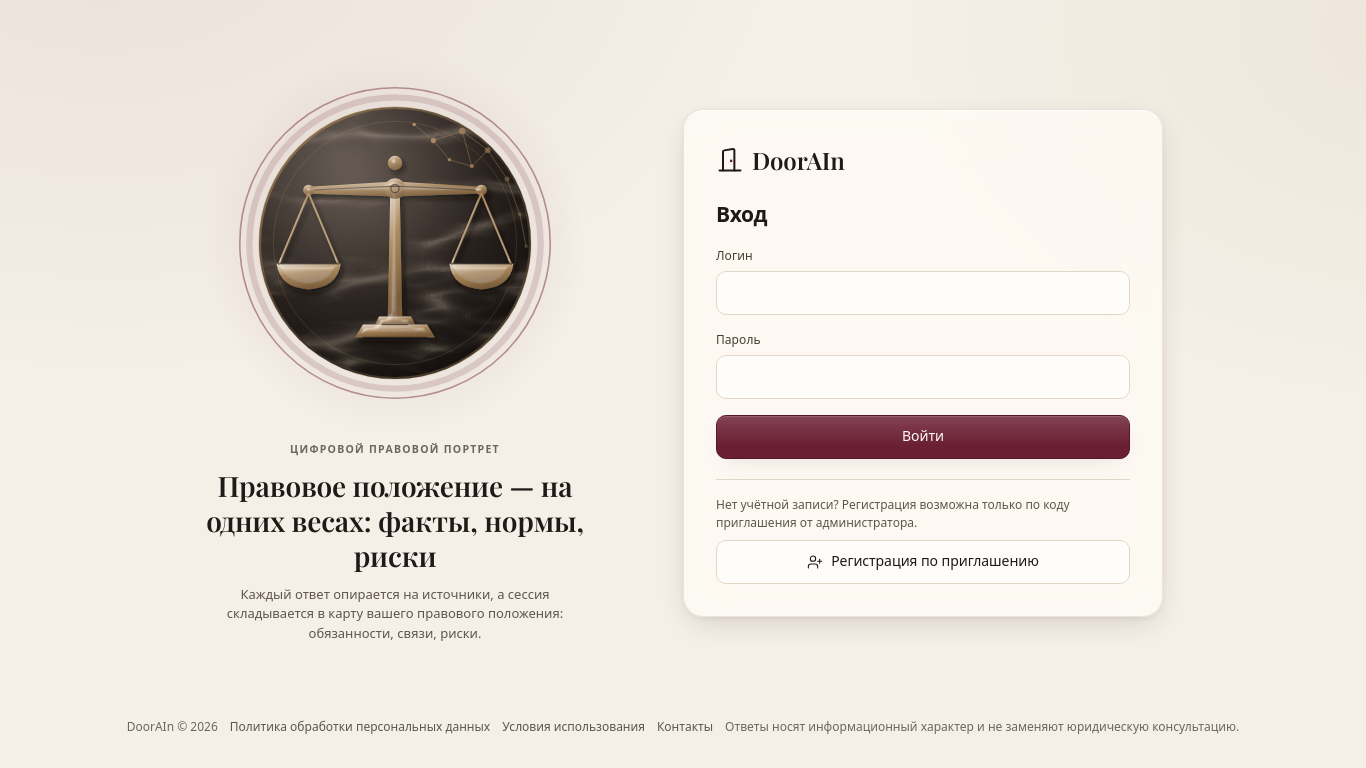
Test: LoginPage › показывает единое сообщение об ошибке входа
In the field labelled "Логин": (923, 293) [716, 271, 1130, 315], type "owner"
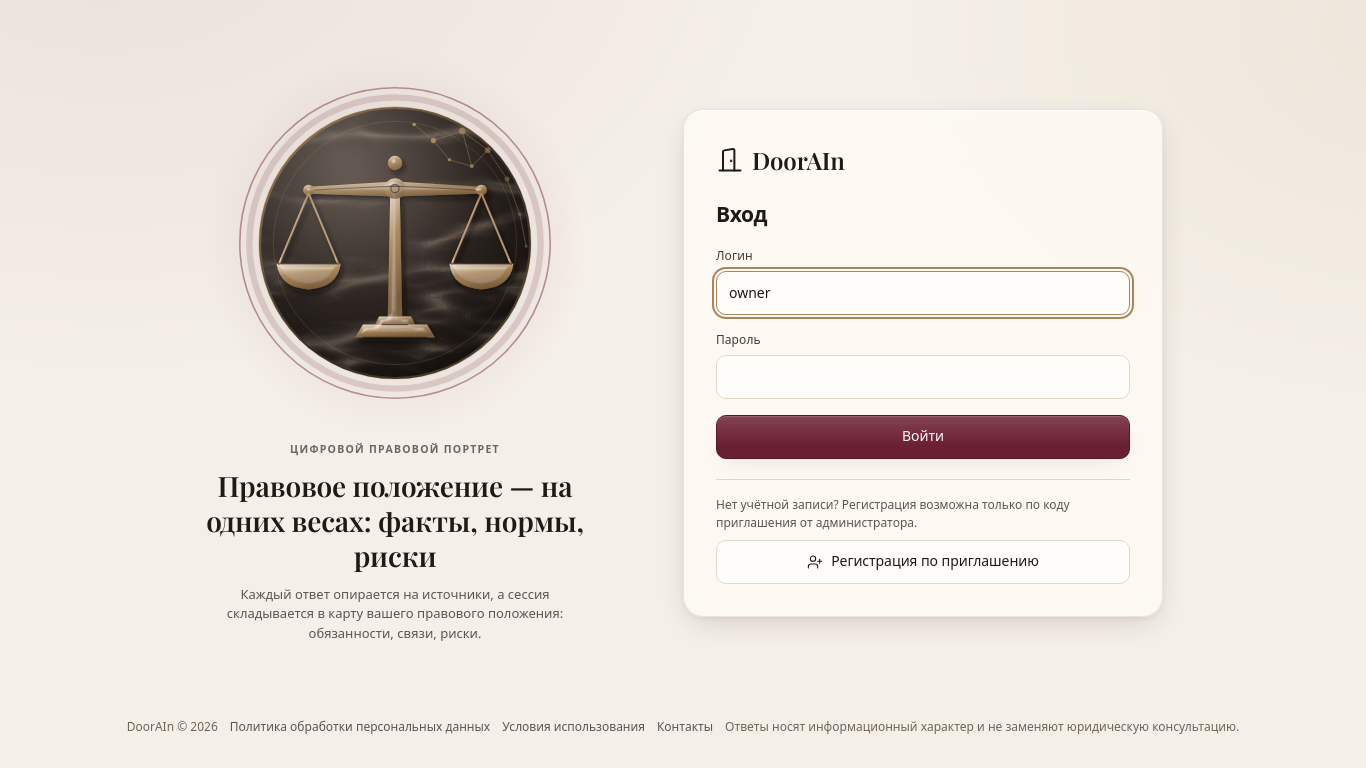
In the password field labelled "Пароль": (923, 377) [716, 355, 1130, 399], type "wrong-password"
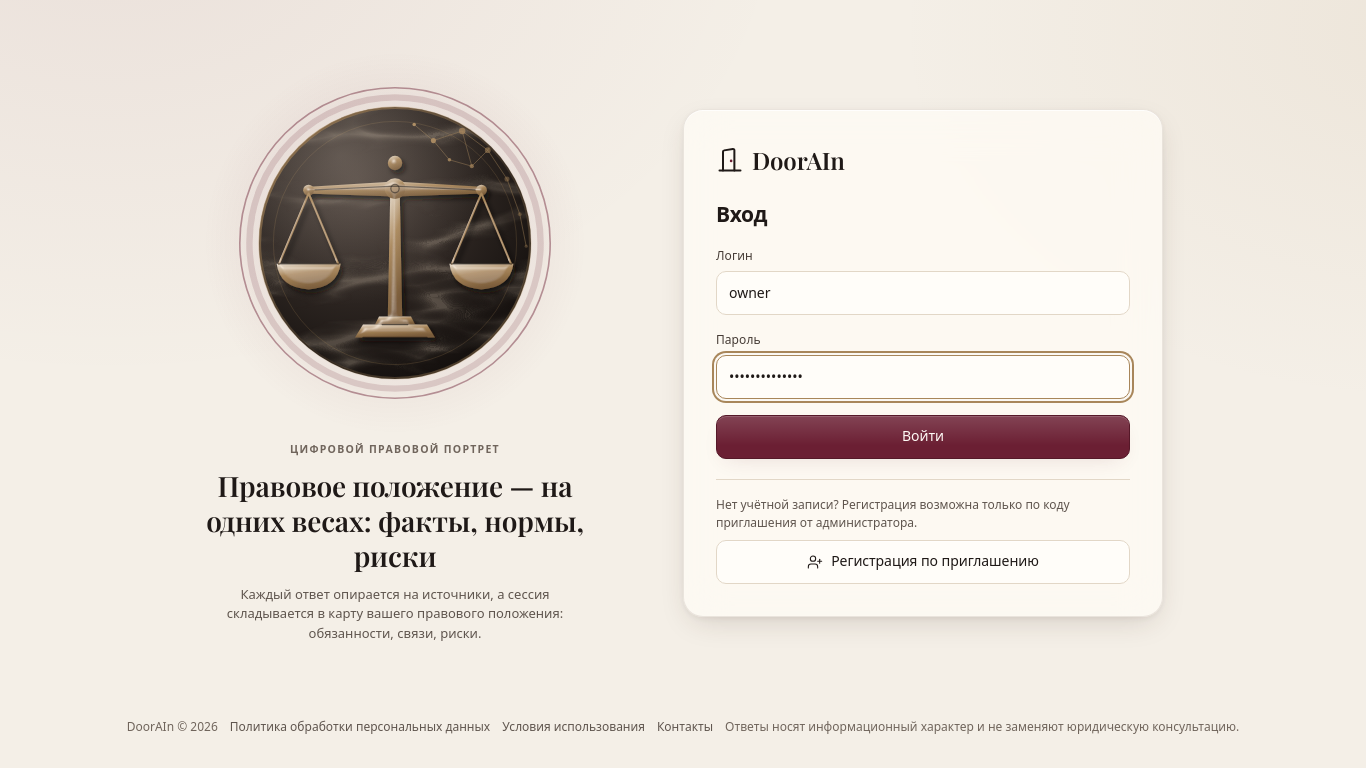
Click the button "Войти": (923, 437) [716, 415, 1130, 459]
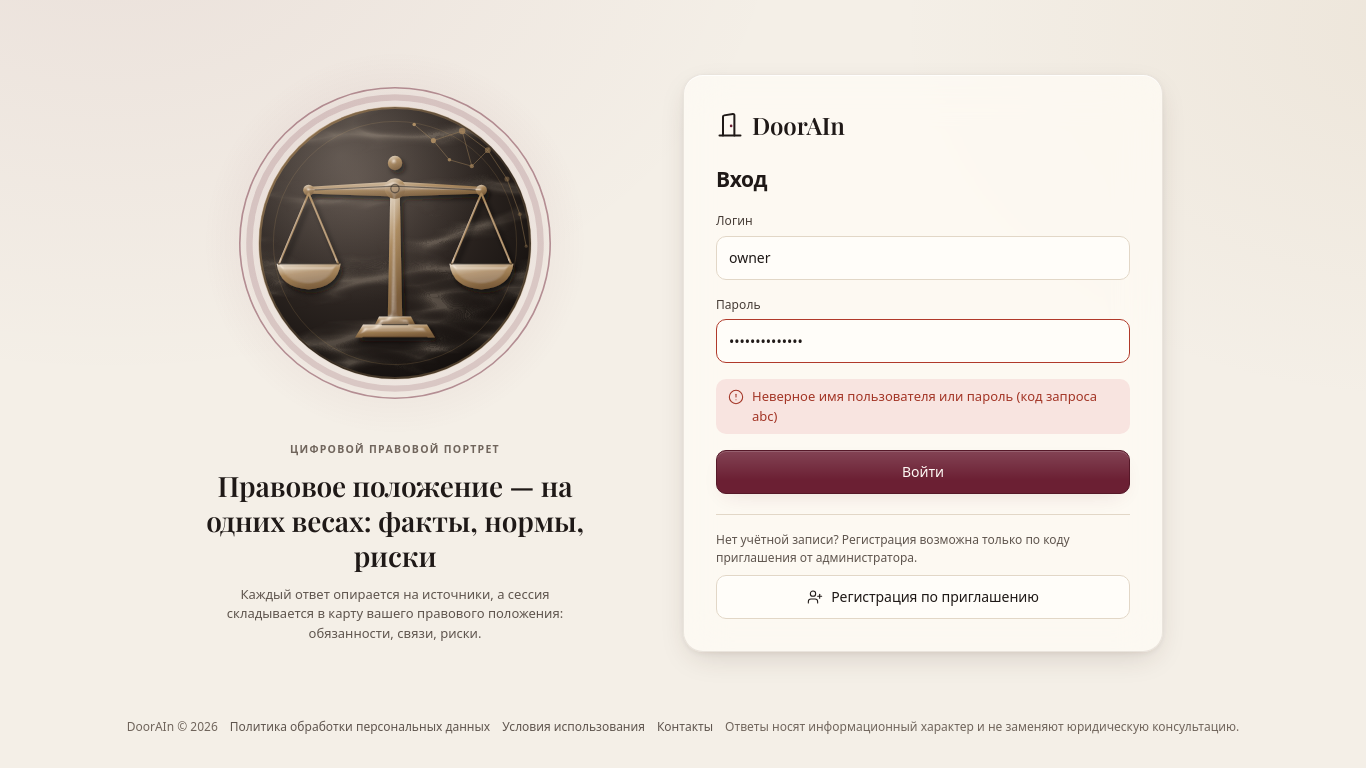
Expected: the message shows "Неверное имя пользователя или пароль", [752, 387, 1097, 425]
